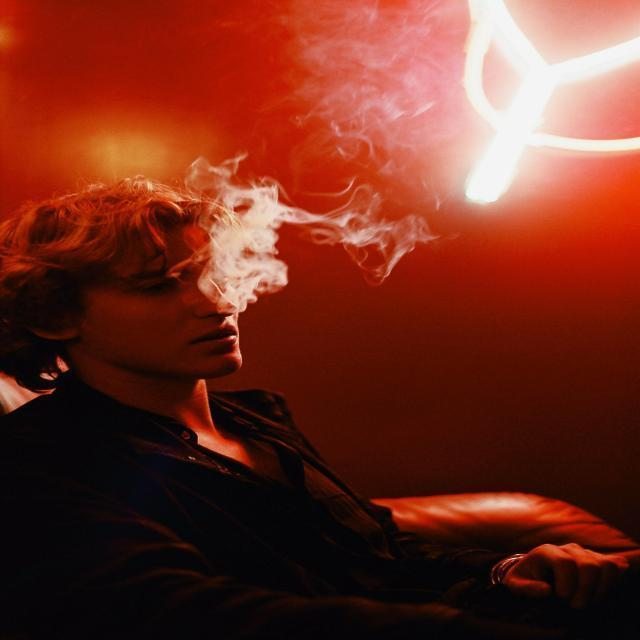smoke: (197, 163, 305, 309)
